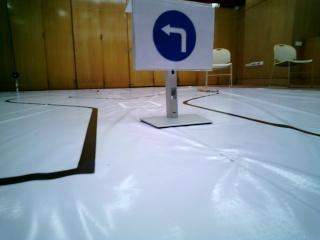left: (145, 2, 209, 68)
